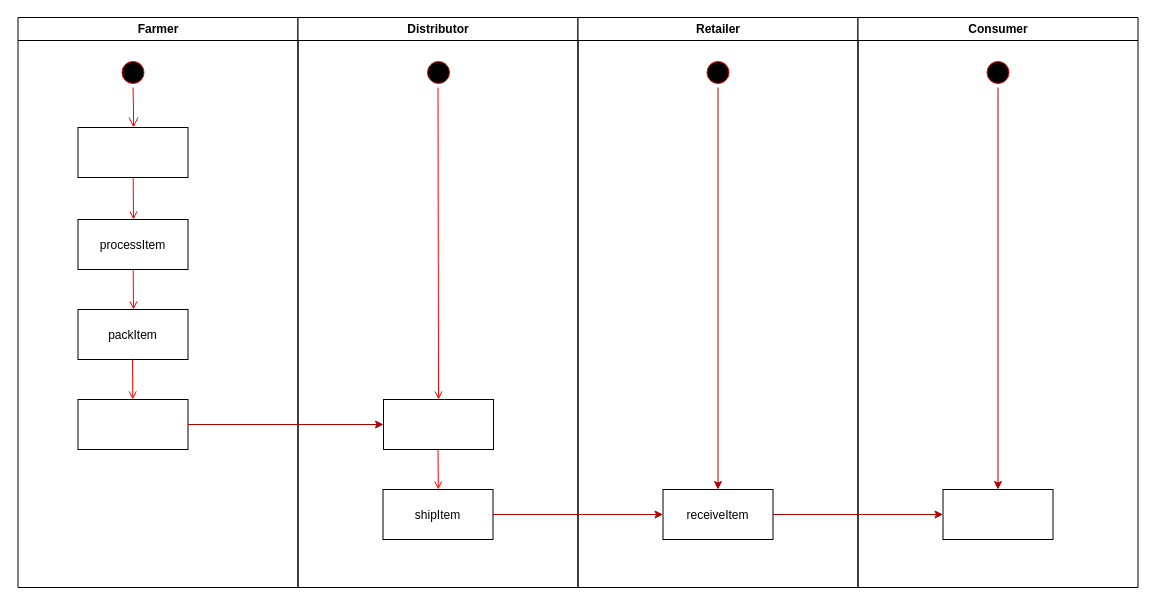
Image size: 1155x605. Some labels were removed from this diagram. The shapes that lost their labels are listed below. From the top down, each one's centre as x and y in pixels, then its label:
(x=132, y=152): harvestItem
(x=132, y=424): addItem
(x=438, y=424): buyItem
(x=997, y=514): purchaseItem
